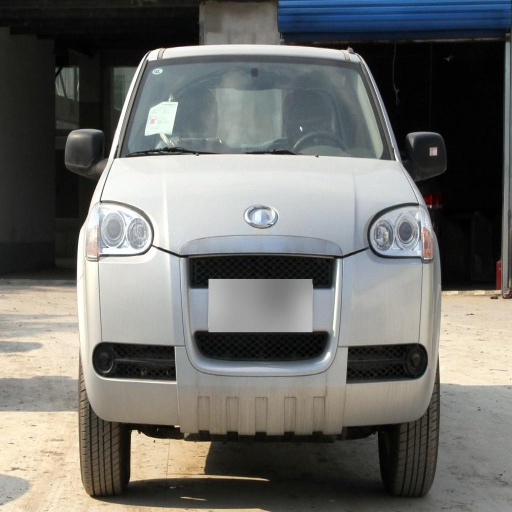front_bumper: (85, 248, 438, 433)
front_right_light: (96, 203, 153, 255)
hood: (106, 155, 215, 254), (348, 159, 414, 212)
left_mirror: (403, 132, 446, 176)
right_mirror: (65, 129, 104, 178)
tailgate: (208, 155, 353, 283)
